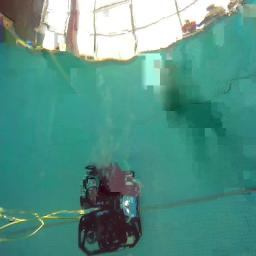front: (77, 207, 141, 256)
